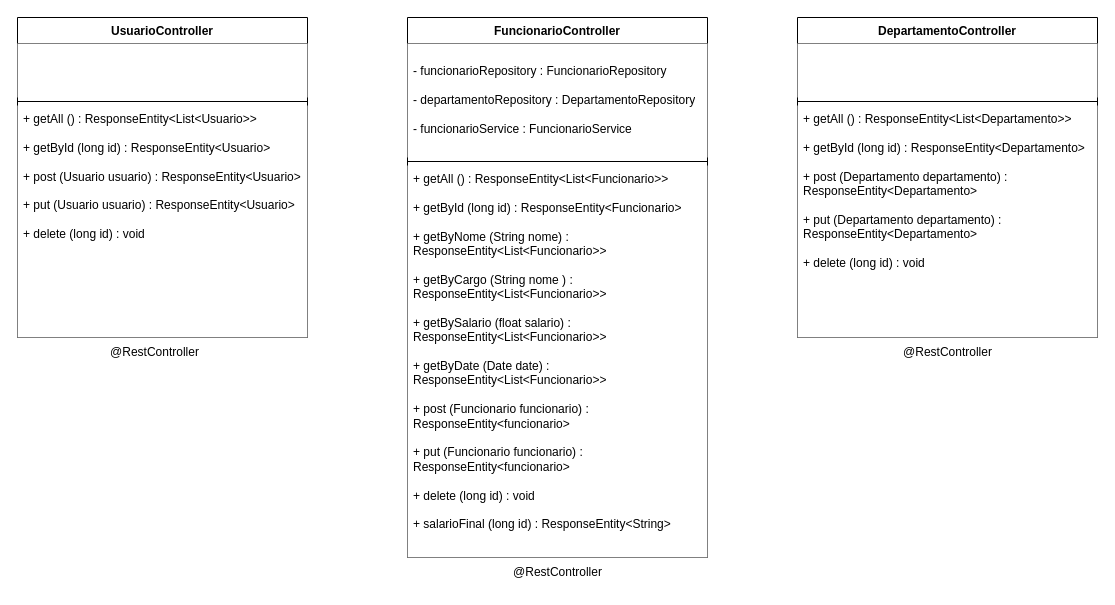
Some shapes in this 1115 by 605 pixel diagram are drawn without their labels. The centre of each missing label's shape, as x and y in pixels:
- departamentoRepository : DepartamentoRepository: [947,70]
- usuarioRepository : UsuarioRepository: [162,70]
